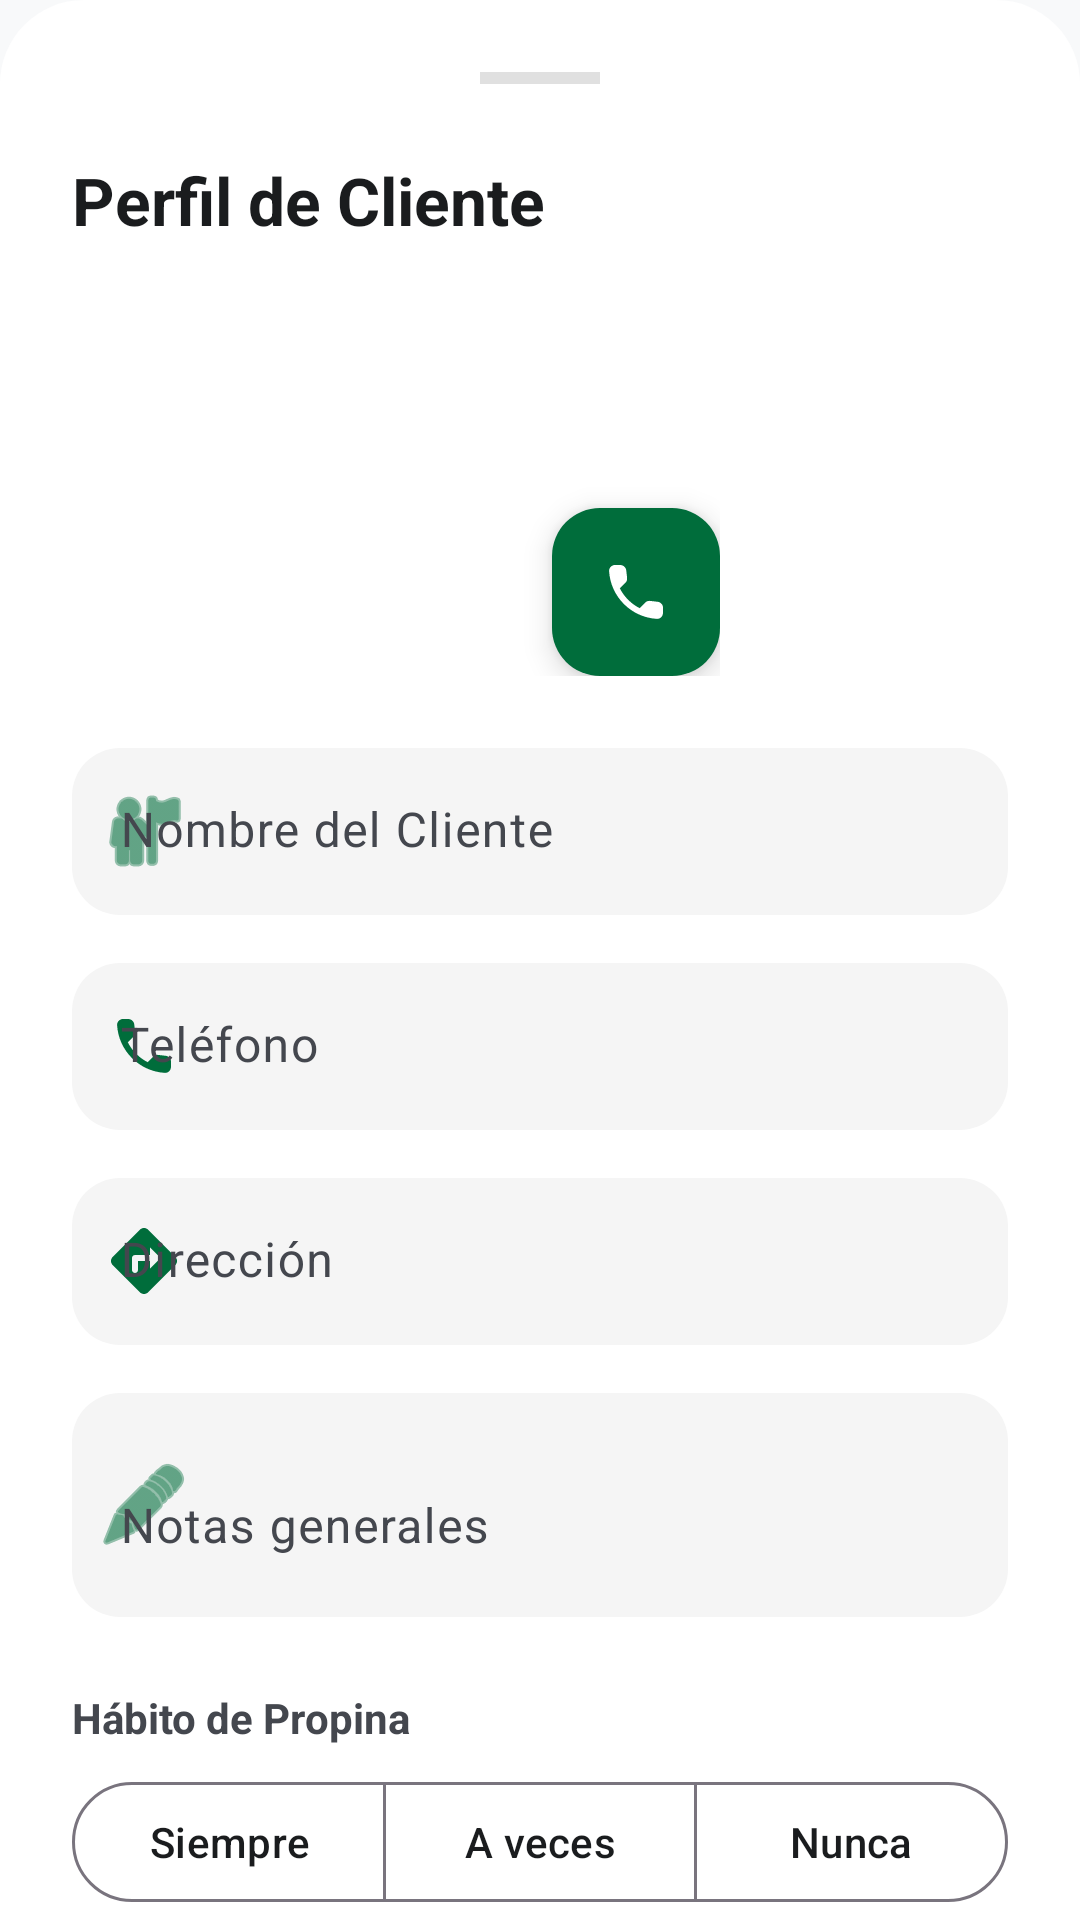

Named icons in this screenshot (1080x1920) and their bounding boxes, (x1, y1, x2, y2):
call: (552, 508, 720, 676)
